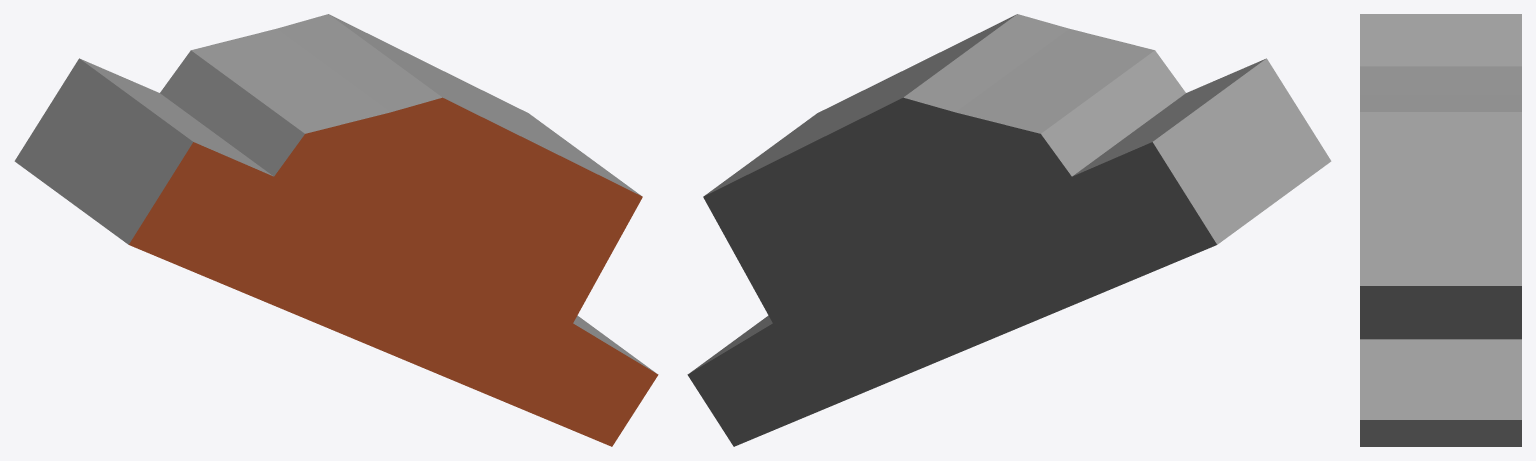
File: construction_3708_assumed_A_Casa_h6m.obj
The picture shows the model from 3 angles, left to right: view 1: azimuth 30°, elevation 25°; view 2: azimuth 150°, elevation 25°; view 3: azimuth 270°, elevation 25°; orthographic projection. The views are drawn at different scales.
Parts seen in each view (by area): view 1: construction_3708_assumed_A_Casa; view 2: construction_3708_assumed_A_Casa; view 3: construction_3708_assumed_A_Casa.
Boxes of the visible parts, box(x1,y1,x2,y2) form: construction_3708_assumed_A_Casa: box(14, 14, 658, 446); construction_3708_assumed_A_Casa: box(687, 14, 1331, 446); construction_3708_assumed_A_Casa: box(1360, 14, 1521, 446).
Size of the model in its own units: 16.07 by 11.8 by 6.
